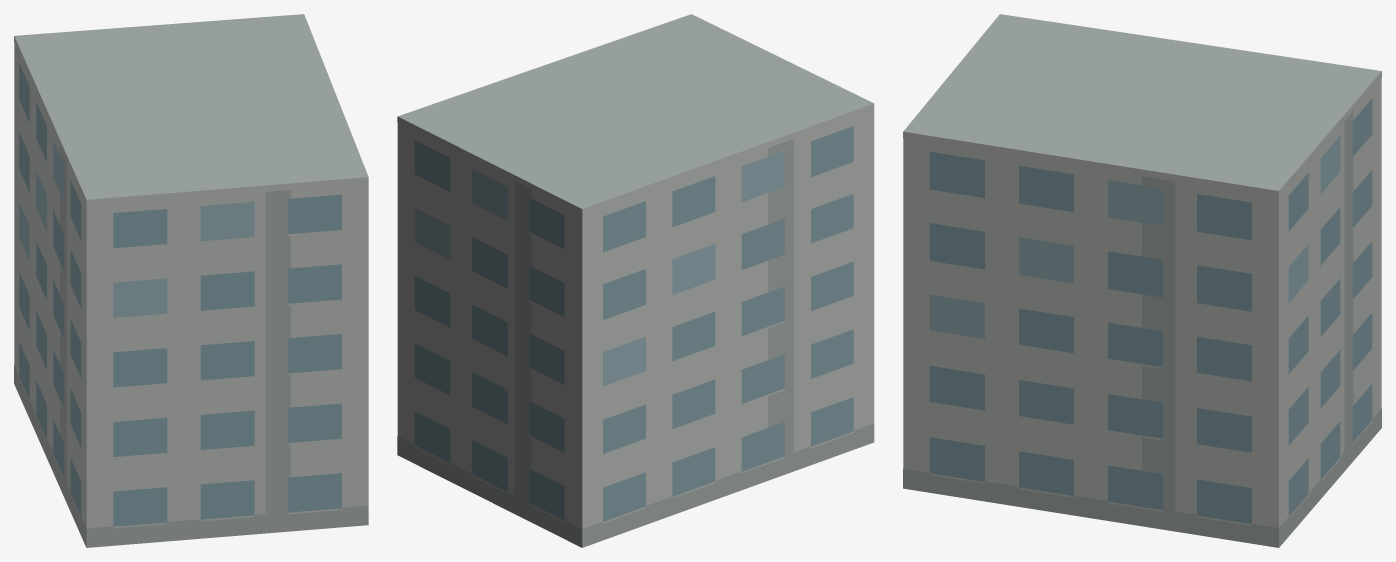
The model's file is survey-upis-32889275.glb.
3 renders of one model, left to right at view 1: azimuth 30°, elevation 25°; view 2: azimuth 150°, elevation 25°; view 3: azimuth 270°, elevation 25°, orthographic. The views are drawn at different scales.
Parts seen in each view (by area): view 1: survey-upis-32889275.tmp; view 2: survey-upis-32889275.tmp; view 3: survey-upis-32889275.tmp.
Part boxes in pixels (x1,y1,x2,y2): survey-upis-32889275.tmp: [14, 14, 368, 547]; survey-upis-32889275.tmp: [397, 14, 874, 547]; survey-upis-32889275.tmp: [903, 14, 1381, 547].
Bounding box in the file's own units: 14.05 × 13.2 × 16.06.
